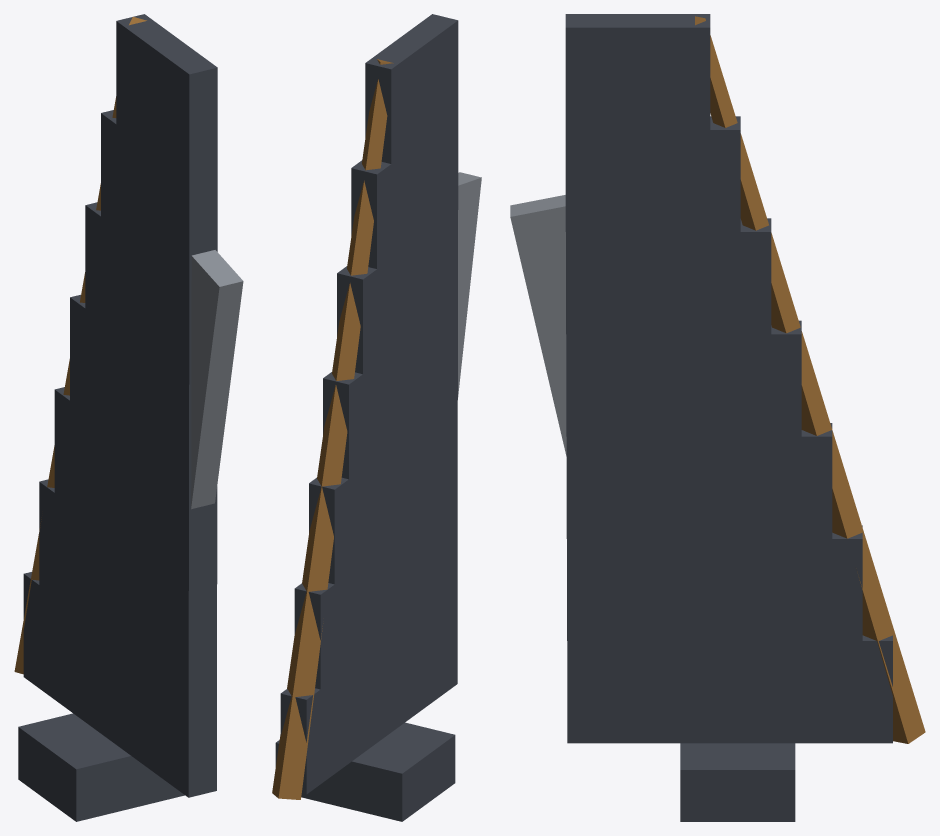
File: ship_control_fin.obj
3 renders of one model, left to right at view 1: azimuth 30°, elevation 25°; view 2: azimuth 150°, elevation 25°; view 3: azimuth 270°, elevation 25°, orthographic. The views are drawn at different scales.
Parts seen in each view (by area): view 1: blade, root, flap, leading_edge; view 2: blade, leading_edge, root, flap; view 3: blade, leading_edge, root, flap.
Boxes of the visible parts, x1,y1,x2,y2 form: blade: (23,14,217,797); root: (18,713,184,821); flap: (191,250,243,509); leading_edge: (14,17,146,674); blade: (280,14,458,794); leading_edge: (272,59,393,799); root: (275,722,455,821); flap: (458,172,481,396); blade: (565,14,892,743); leading_edge: (695,16,925,743); root: (680,743,795,821); flap: (510,195,566,456).
Size of the model in its own units: 0.44 by 2.37 by 1.16.
